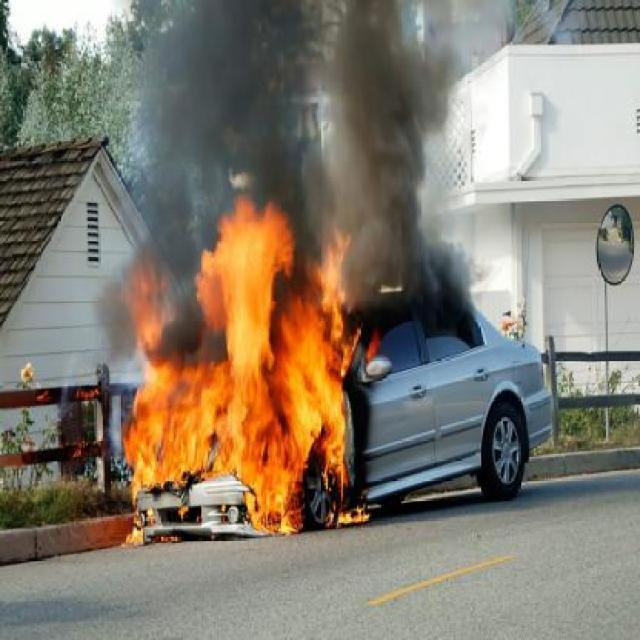Fire: (125, 197, 350, 482), (248, 482, 302, 532), (334, 508, 371, 525)
Smoke: (118, 0, 442, 192), (352, 190, 457, 314)
